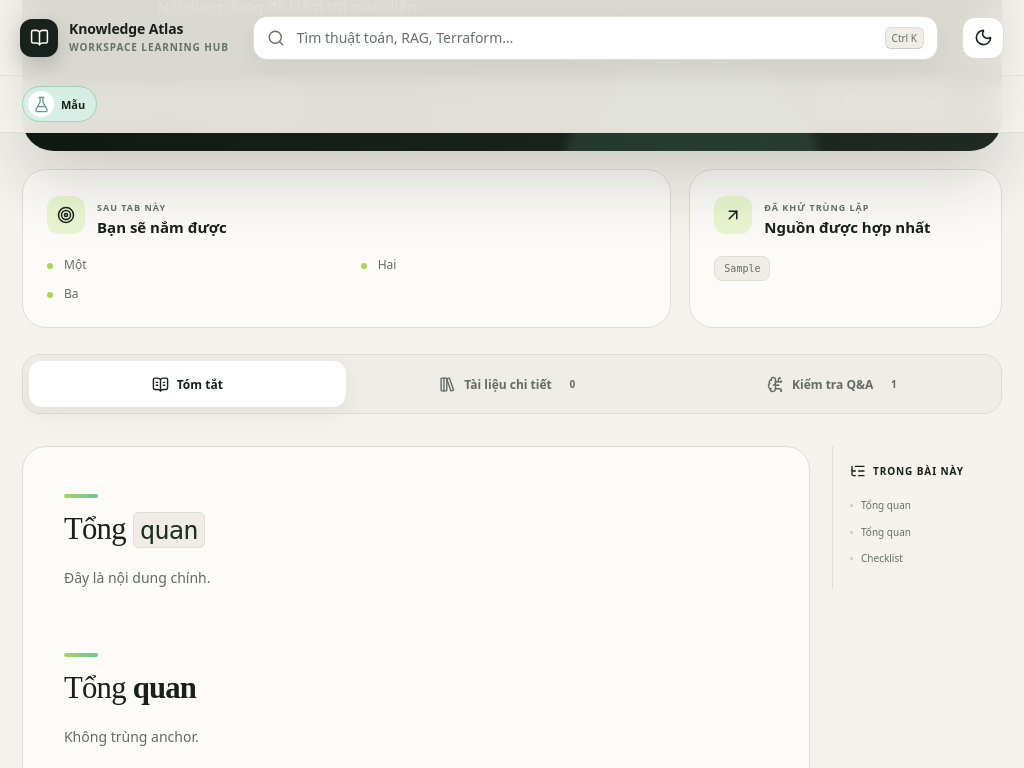
Test case: KnowledgeLibraryPage › giữ nguyên tiến độ Q&A khi chuyển qua lại giữa các chế độ học
The image size is (1024, 768).
(page scrolled)
Step 1. Click the tab "Kiểm tra Q&A 1" → (837, 384), box [678, 361, 995, 407]
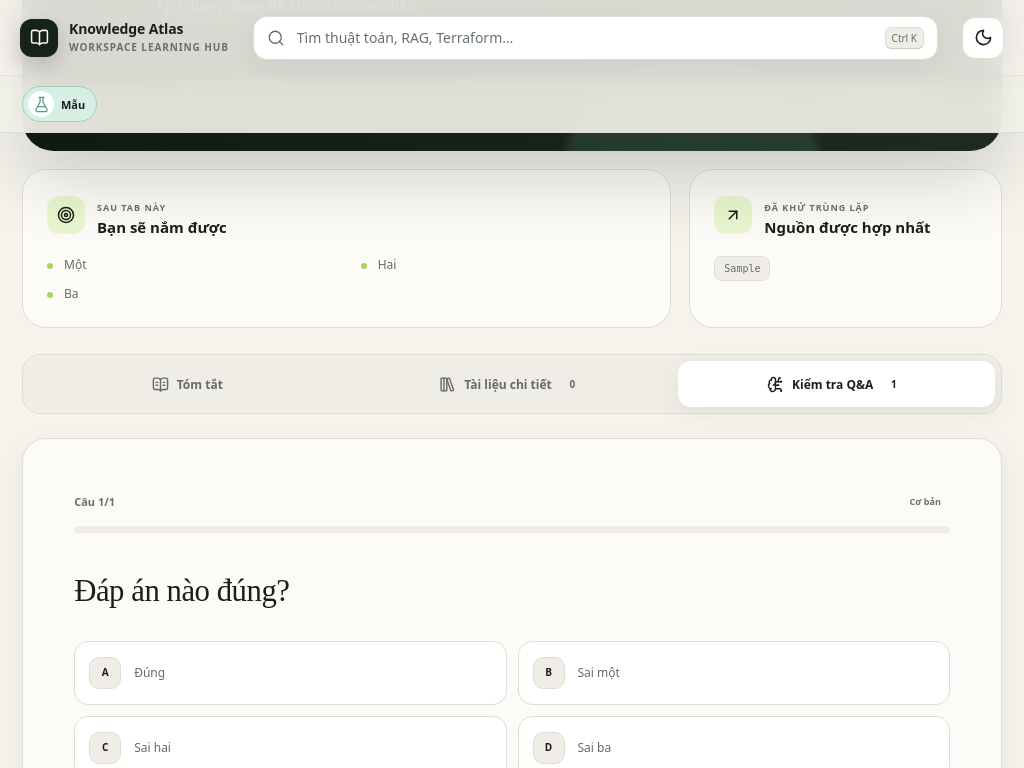
Step 2. Click the radio button labelled "A Đúng" → (105, 673), box [74, 641, 506, 705]
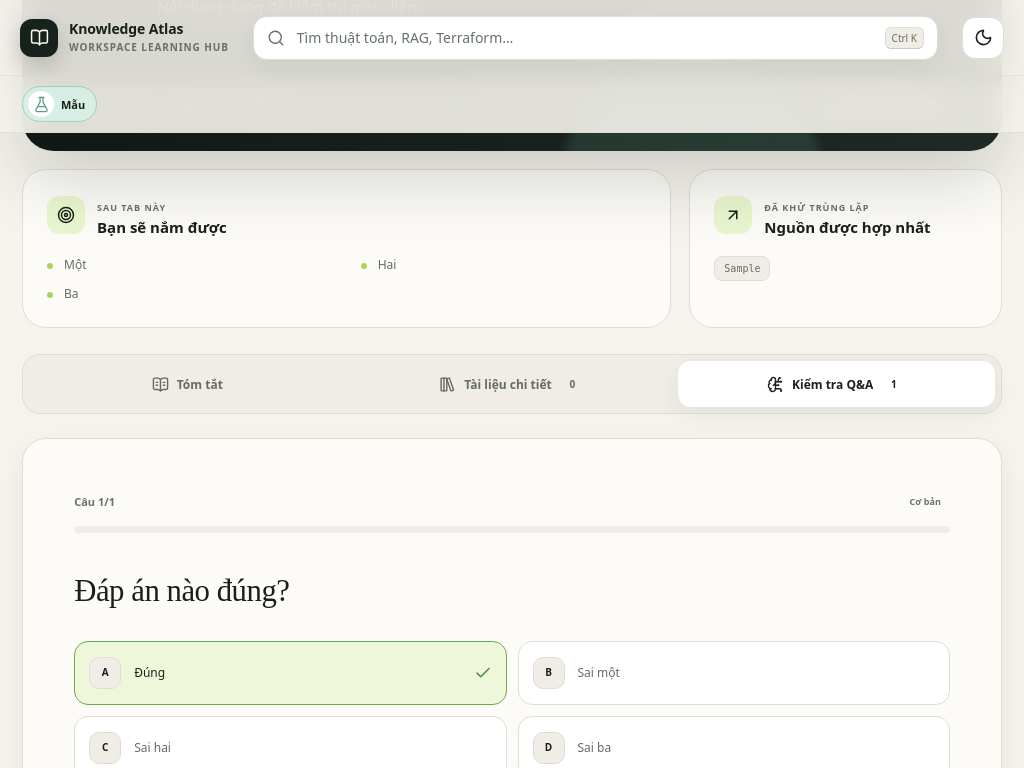
Step 3. Click the tab "Tóm tắt" → (187, 384), box [29, 361, 346, 407]
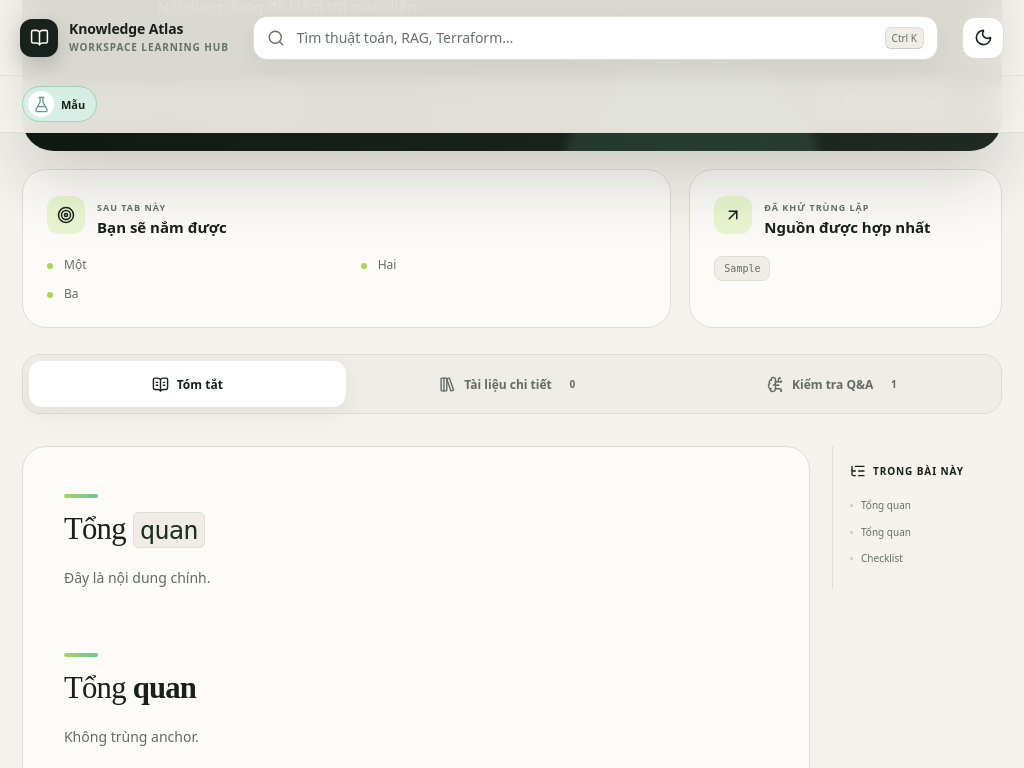
Step 4. Click the tab "Kiểm tra Q&A 1" → (837, 384), box [678, 361, 995, 407]
(page scrolled)
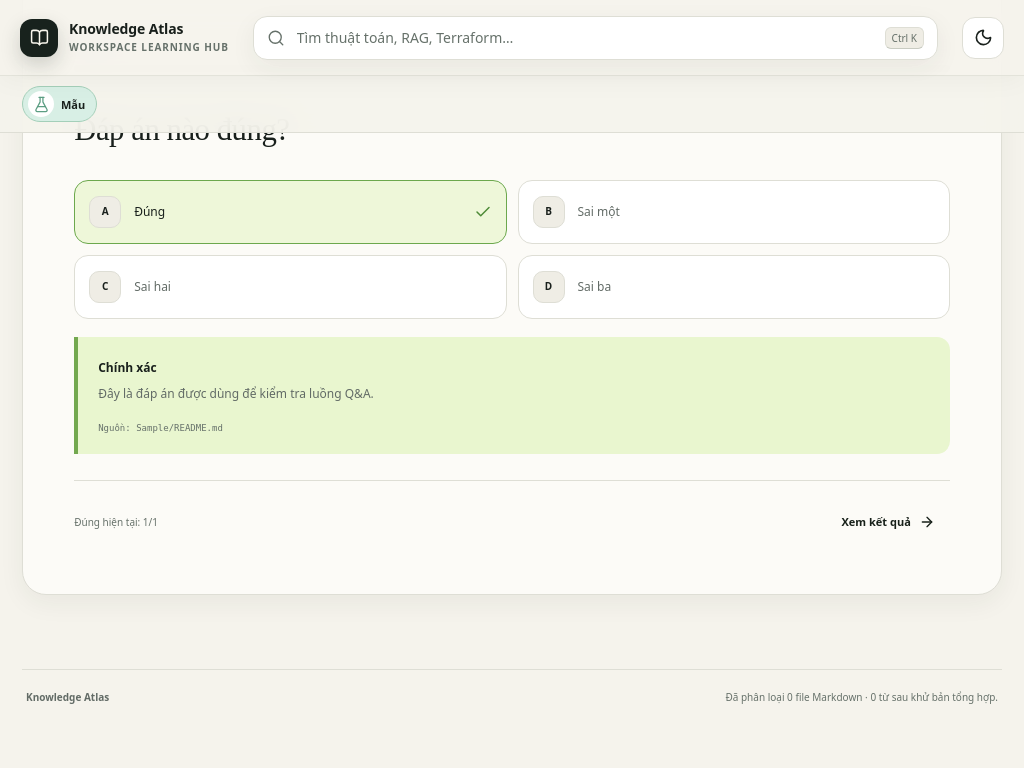
expect the radio button labelled "A Đúng" is checked: met, box [74, 180, 506, 244]
expect the text "Chính xác" is shown: met, box [98, 359, 157, 376]
expect the text "Đúng hiện tại: 1/1" is shown: met, box [74, 515, 158, 529]
